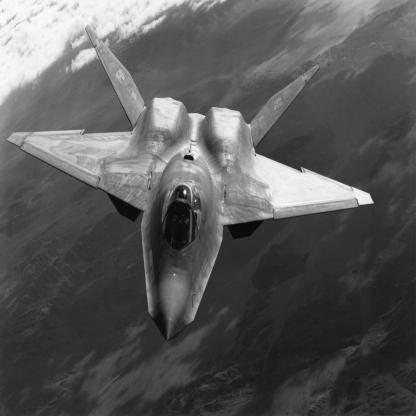YF23: (7, 25, 375, 342)
